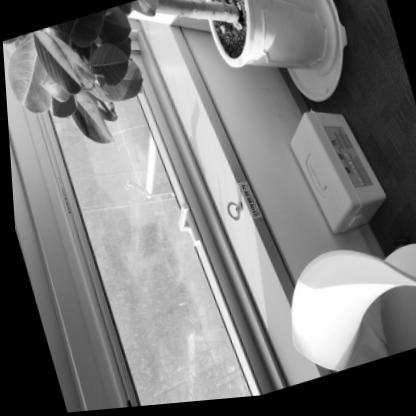DDL: (279, 99, 388, 243)
